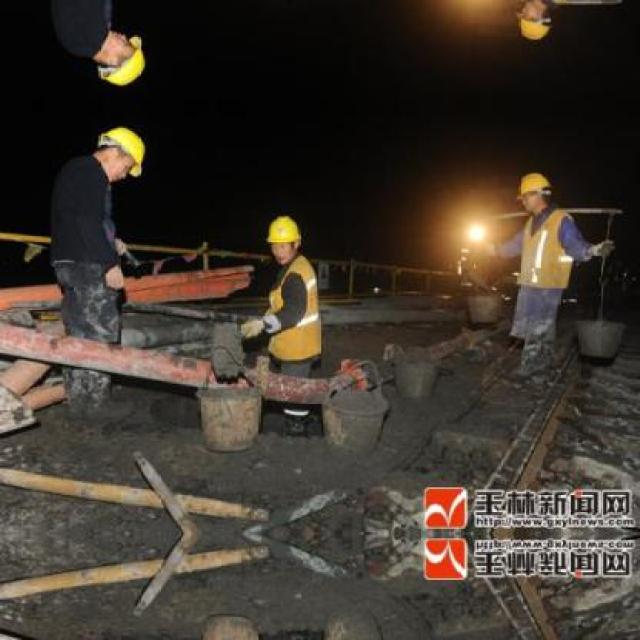helmet: (86, 121, 151, 181), (86, 32, 151, 92), (265, 212, 304, 266), (512, 167, 556, 214), (512, 0, 556, 46)
